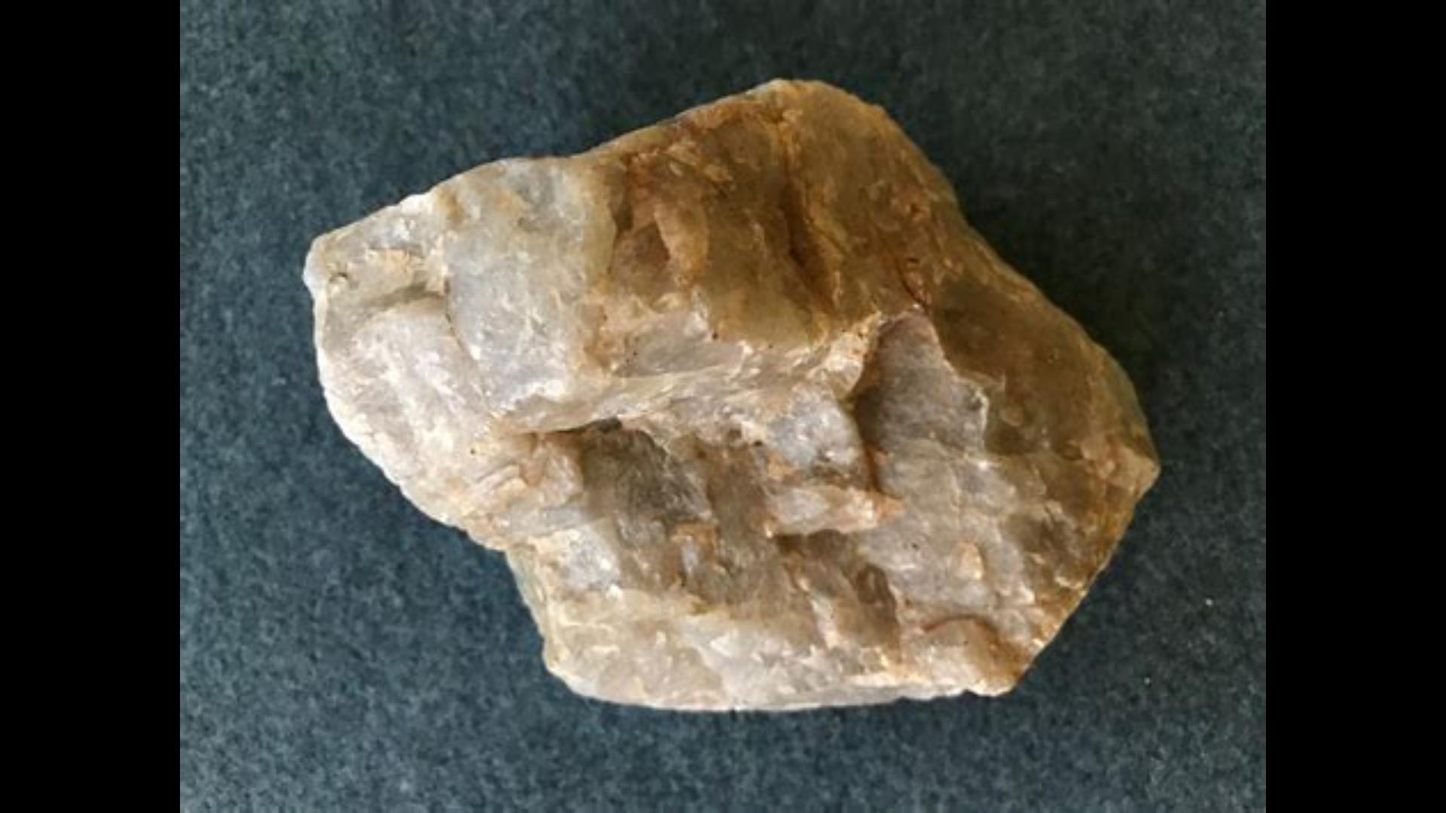rock: (311, 80, 1156, 705)
